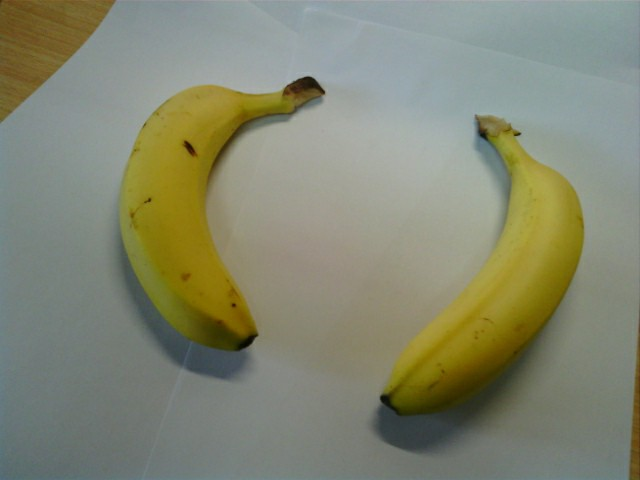fresh_banana: (380, 123, 588, 426)
normal_banana: (119, 85, 286, 351)
